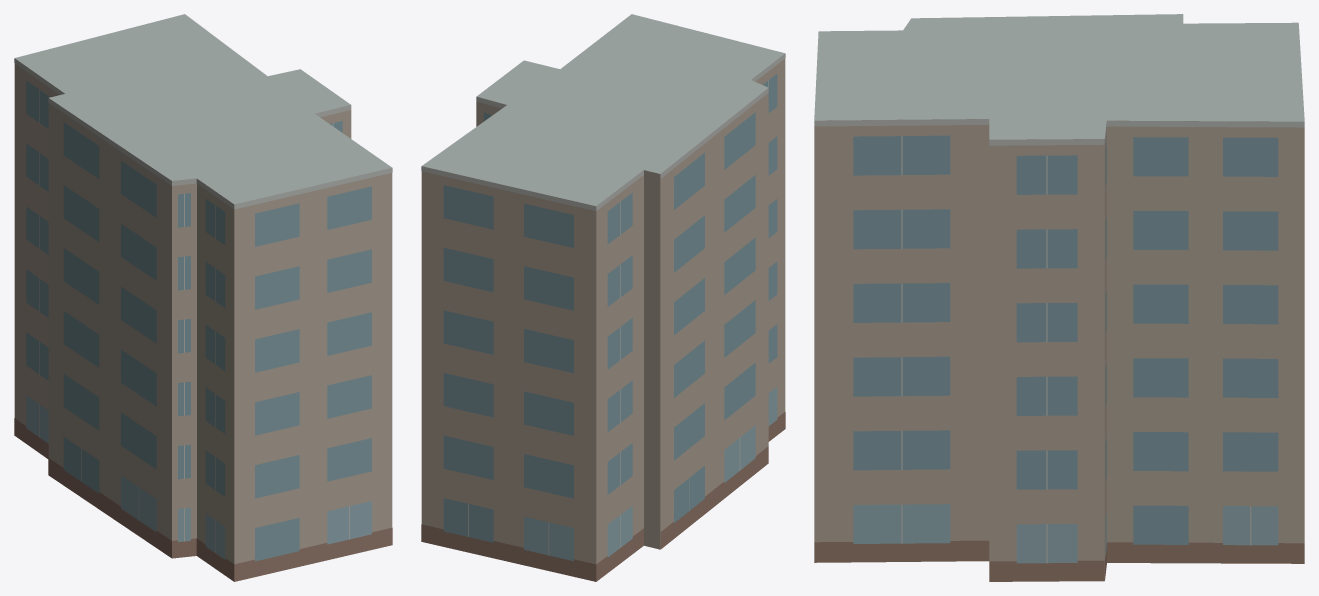
File: survey-upis-32569167.glb
3 renders of one model, left to right at view 1: azimuth 30°, elevation 25°; view 2: azimuth 150°, elevation 25°; view 3: azimuth 270°, elevation 25°, orthographic. The views are drawn at different scales.
Visible parts, largest first — view 1: survey-upis-32569167.tmp; view 2: survey-upis-32569167.tmp; view 3: survey-upis-32569167.tmp.
Part boxes in pixels (box(x1,y1,x2,y2)): survey-upis-32569167.tmp: box(14, 14, 392, 581); survey-upis-32569167.tmp: box(421, 14, 785, 581); survey-upis-32569167.tmp: box(814, 14, 1304, 581).
Bounding box in the file's own units: 11.17 × 18.3 × 18.41.
